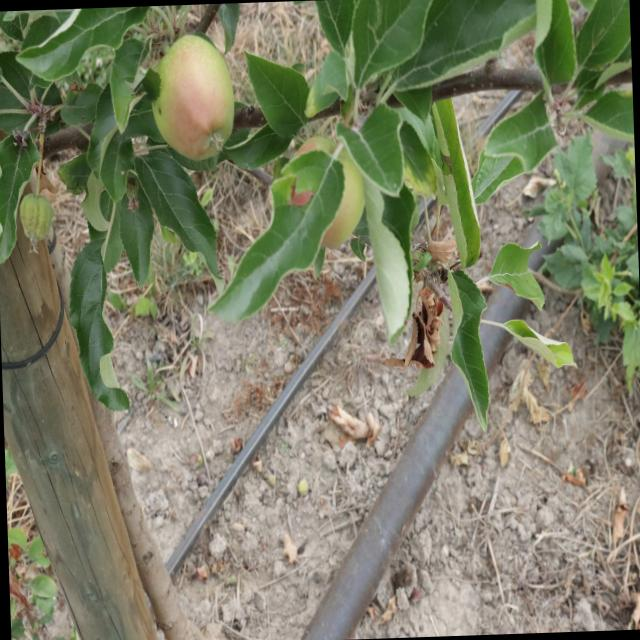-FireBlight-: (406, 233, 459, 368)
